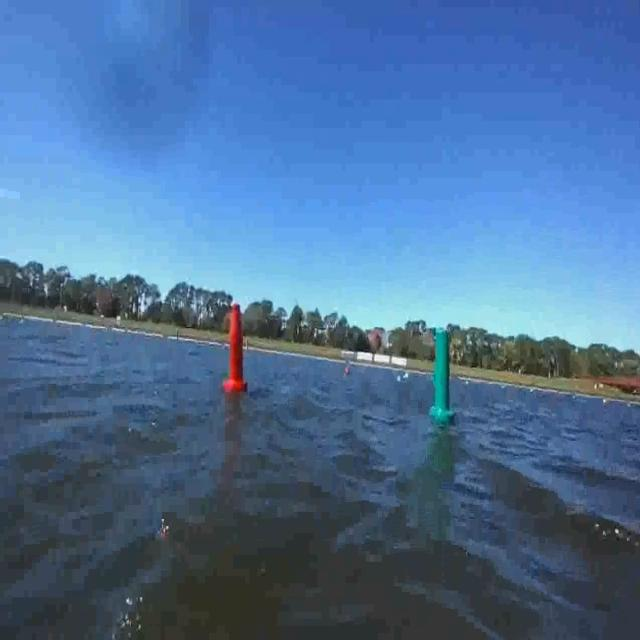green-column-buoy: (430, 327, 455, 423)
red-column-buoy: (223, 302, 248, 393)
